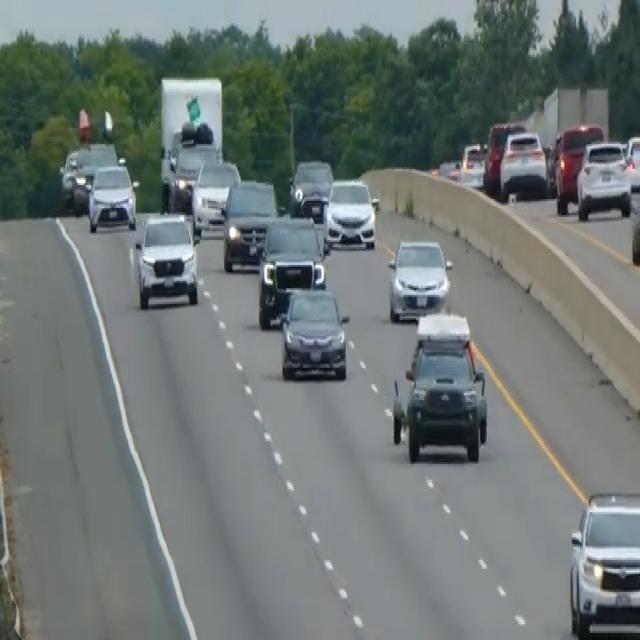car: (567, 489, 639, 638), (256, 213, 326, 327), (279, 284, 350, 380), (134, 208, 199, 309), (387, 235, 453, 322), (221, 176, 279, 272), (552, 121, 604, 213), (575, 137, 632, 220), (191, 156, 240, 238), (325, 174, 376, 249), (498, 128, 548, 201), (87, 162, 137, 233), (169, 140, 218, 212), (71, 140, 118, 213), (483, 119, 525, 192), (289, 156, 333, 217), (291, 190, 330, 252), (459, 140, 486, 187), (59, 146, 79, 202), (624, 132, 639, 190), (631, 187, 639, 270)
jeep: (390, 309, 489, 464)
truck: (157, 73, 224, 211)
